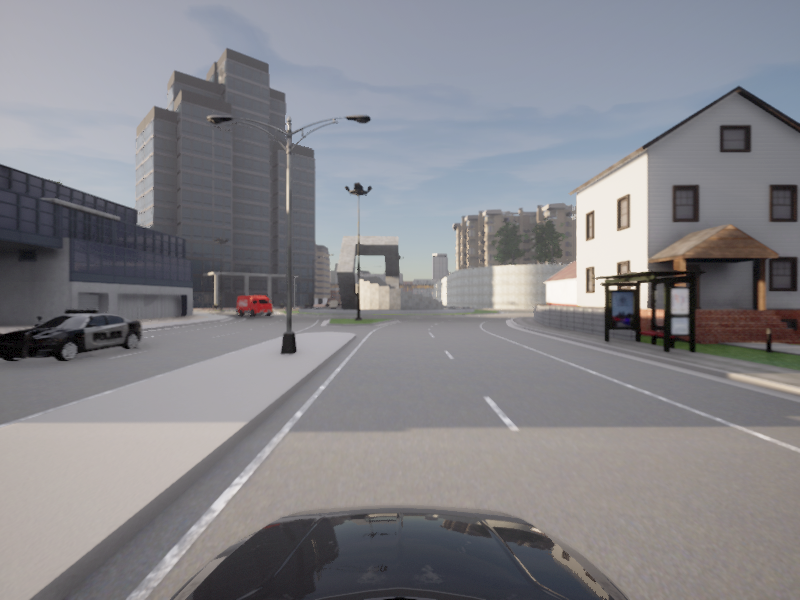vehicle: (0, 307, 149, 367), (234, 295, 276, 317)
